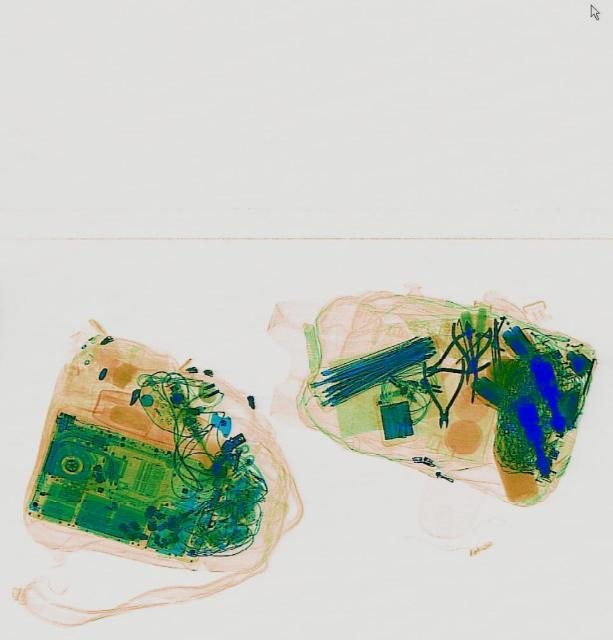Pliers: (413, 325, 492, 389), (446, 321, 492, 404), (420, 356, 465, 428)
